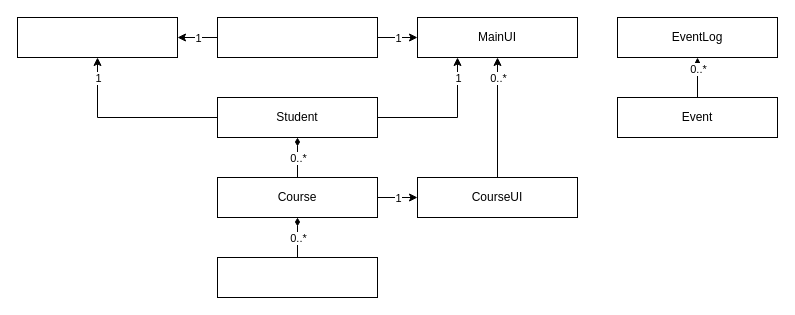
This 795x315 diagram has some shape labels left out. Here are the shapes that lost their labels. From the top down, the box of each, then its label:
(16, 16, 178, 58): GradeCalculatorConsole
(216, 16, 378, 58): JsonProcessor
(216, 256, 378, 298): GradingGroup
